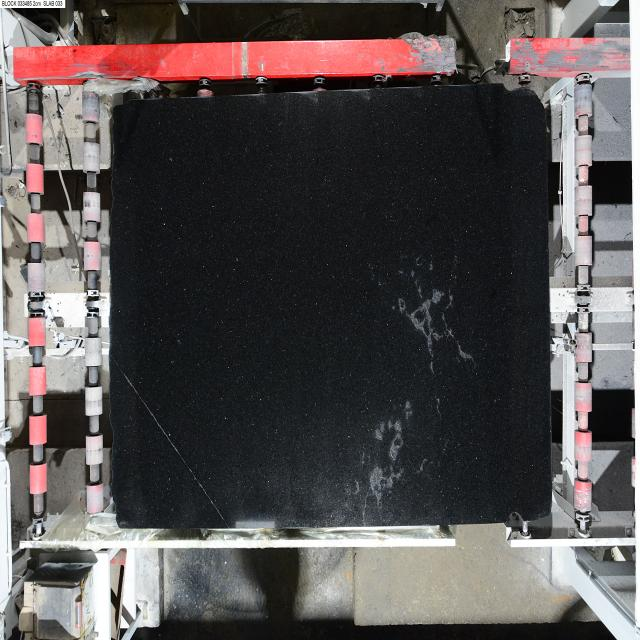chapa: (110, 84, 551, 529)
veio: (505, 508, 526, 531)
